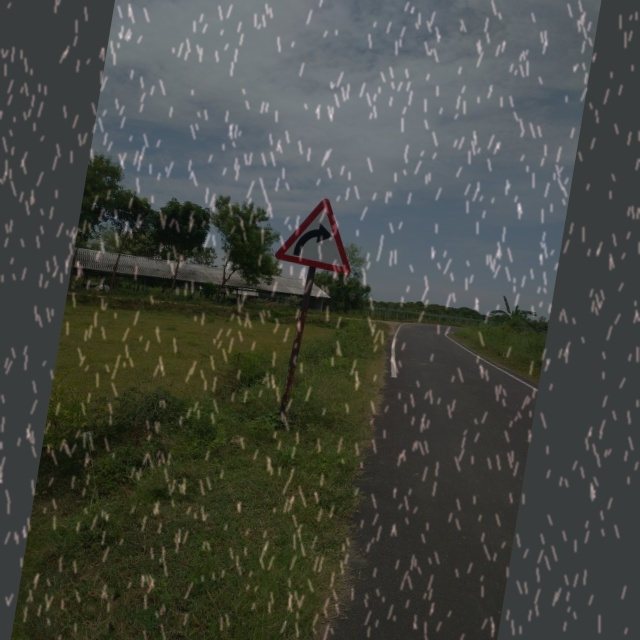Right_Hand_Curve: (274, 191, 359, 276)
